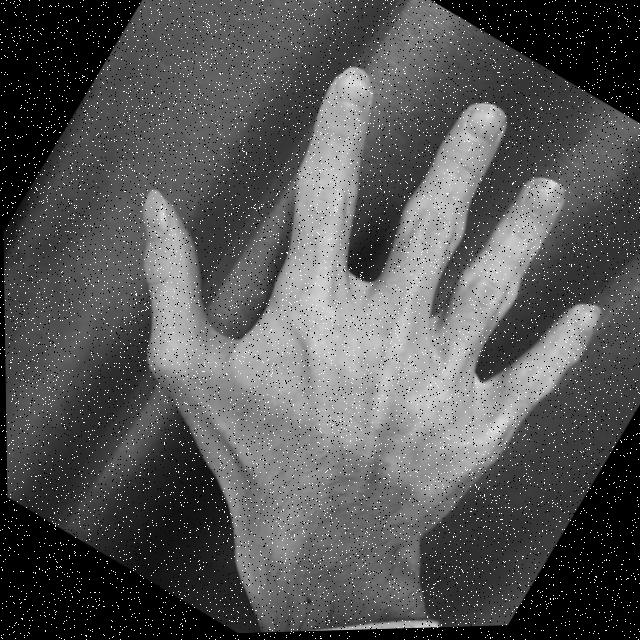hand: (42, 0, 640, 598)
